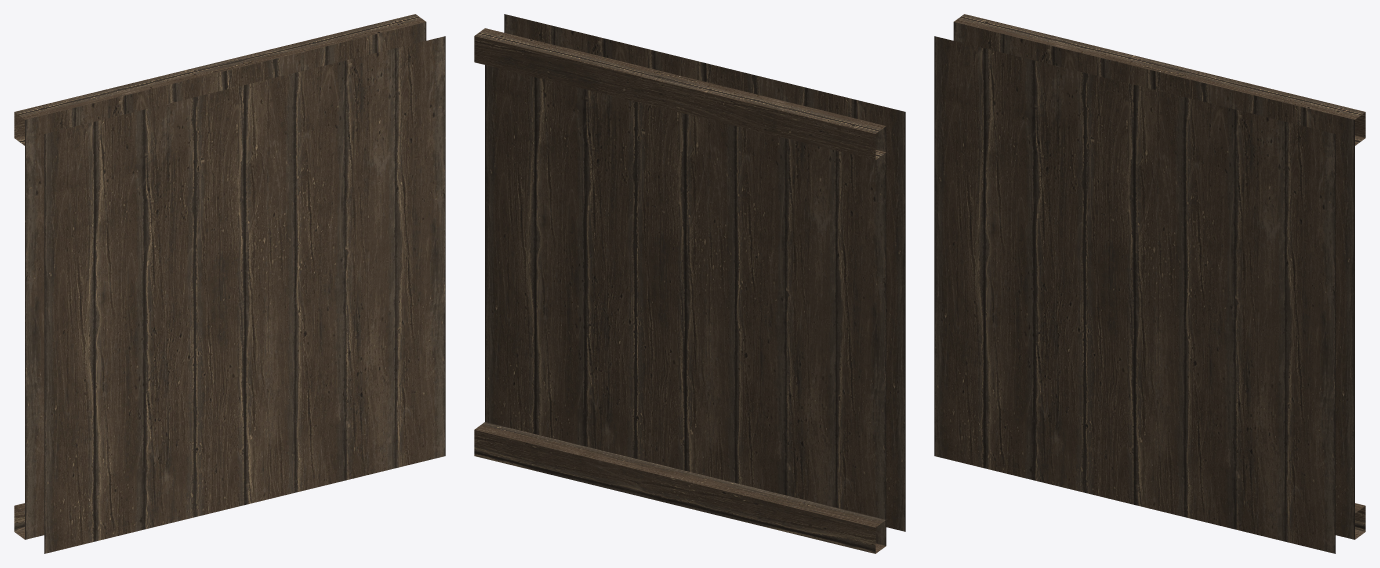
Rendered from ARC1010323.fbx.
3 renders of one model, left to right at view 1: azimuth 30°, elevation 25°; view 2: azimuth 150°, elevation 25°; view 3: azimuth 330°, elevation 25°, orthographic.
Visible parts, largest first — view 1: smARC1010323; view 2: smARC1010323; view 3: smARC1010323.
Part boxes in pixels (x1=…): smARC1010323: x1=14, y1=14, x2=445, y2=553; smARC1010323: x1=474, y1=14, x2=905, y2=553; smARC1010323: x1=934, y1=14, x2=1365, y2=553.
Bounding box in the file's own units: 268 × 268 × 34.9.
1 material, 1 textured.
